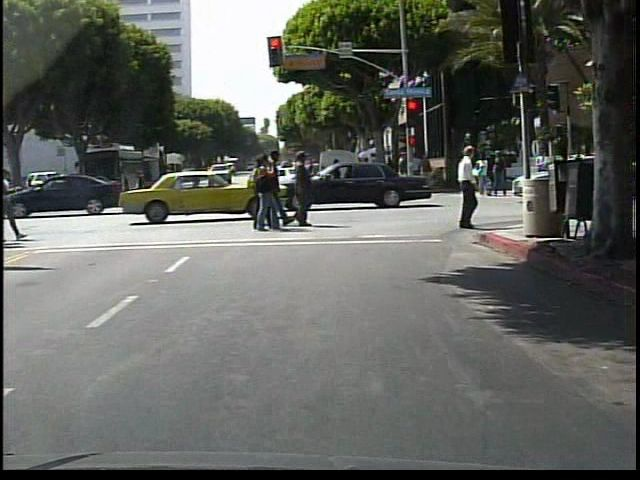person: (447, 142, 490, 235)
